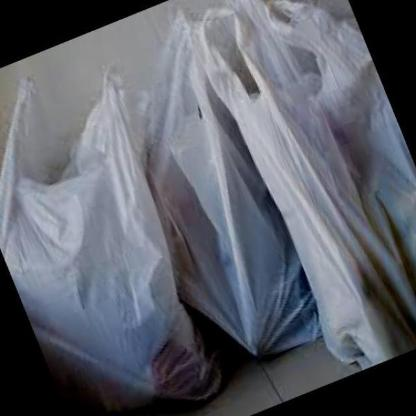Plastic Bag: (198, 0, 416, 364), (0, 65, 220, 415)
